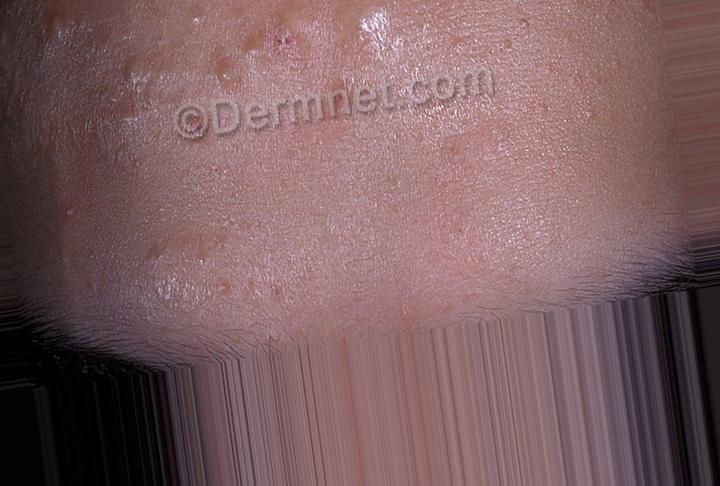Acne: (116, 16, 328, 90), (154, 215, 320, 308)
